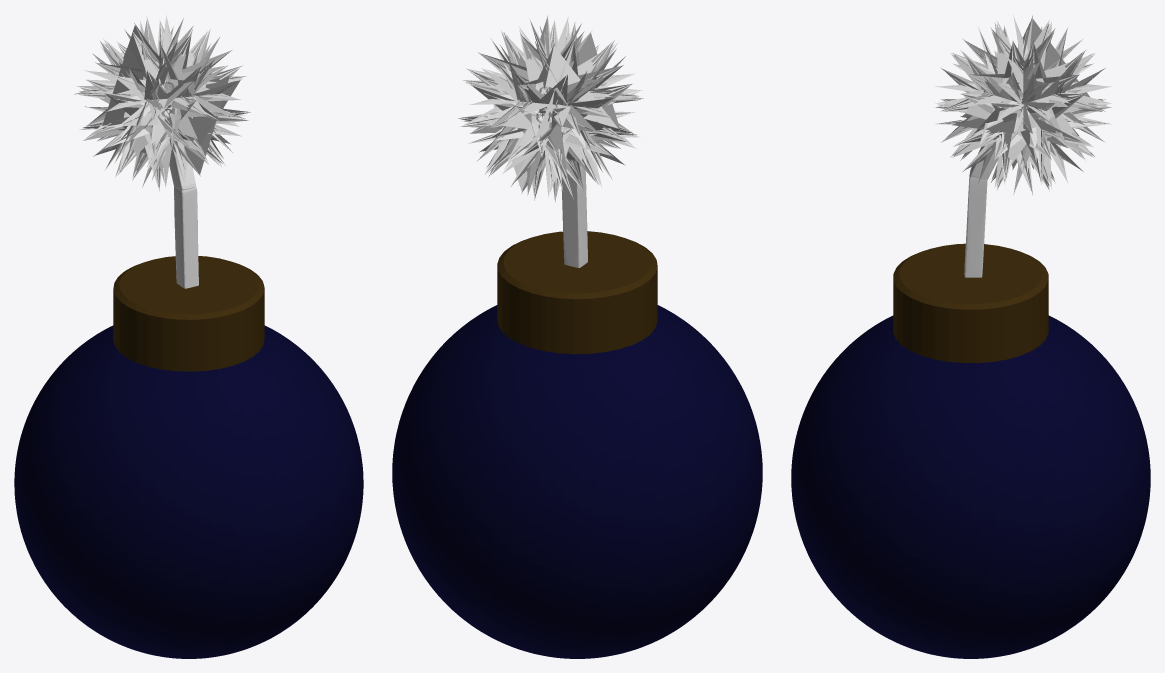
File: bomb.fbx
3 renders of one model, left to right at view 1: azimuth 30°, elevation 25°; view 2: azimuth 150°, elevation 25°; view 3: azimuth 270°, elevation 25°, orthographic. The views are drawn at different scales.
Parts seen in each view (by area): view 1: Sphere, Icosphere, Cylinder, Cube, Cube.001; view 2: Sphere, Icosphere, Cylinder, Cube; view 3: Sphere, Icosphere, Cylinder, Cube.
Part boxes in pixels (left/top/right/bottom): Sphere: left=14, top=325, right=363, bottom=658; Icosphere: left=74, top=15, right=250, bottom=191; Cylinder: left=113, top=256, right=264, bottom=371; Cube: left=174, top=186, right=198, bottom=288; Cube.001: left=169, top=148, right=195, bottom=190; Sphere: left=392, top=305, right=762, bottom=658; Icosphere: left=458, top=15, right=643, bottom=202; Cylinder: left=497, top=231, right=657, bottom=354; Cube: left=561, top=166, right=587, bottom=267; Sphere: left=791, top=315, right=1150, bottom=658; Icosphere: left=934, top=15, right=1111, bottom=195; Cylinder: left=893, top=243, right=1048, bottom=363; Cube: left=964, top=173, right=987, bottom=277.
Size of the model in its own units: 197 by 373 by 197.
